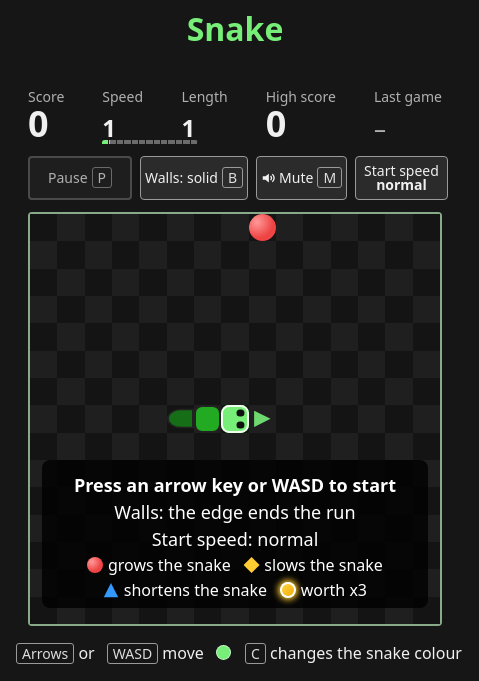
Scenario: hiding the page keeps a paused game paused with Resume shown
Press ArrowRight
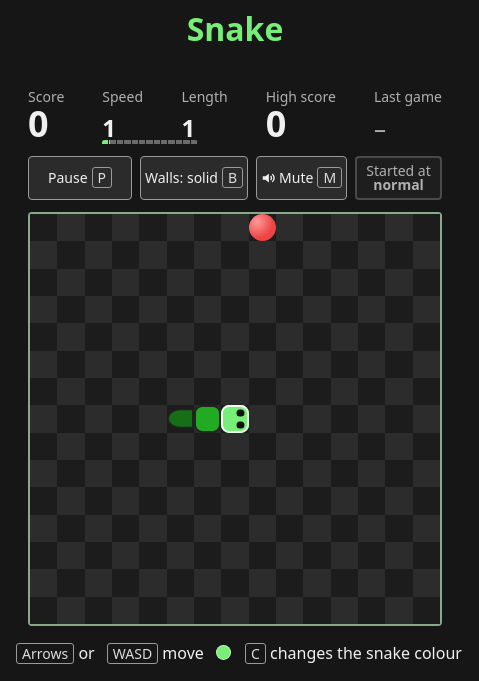
Click the button "Pause". click: coordinates (80, 178)
box: [28,156,132,200]
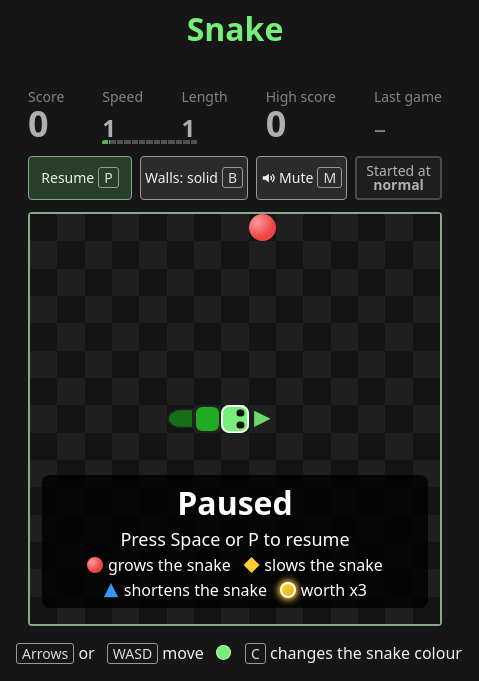
Result: the button "Resume" is shown at [28,156,132,200]
